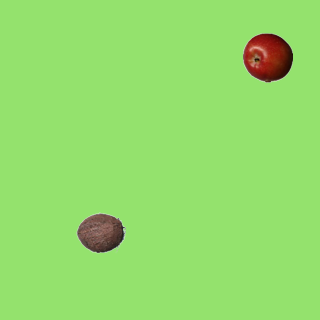Apple Braeburn: (242, 32, 292, 82)
Cocos: (75, 207, 125, 257)
